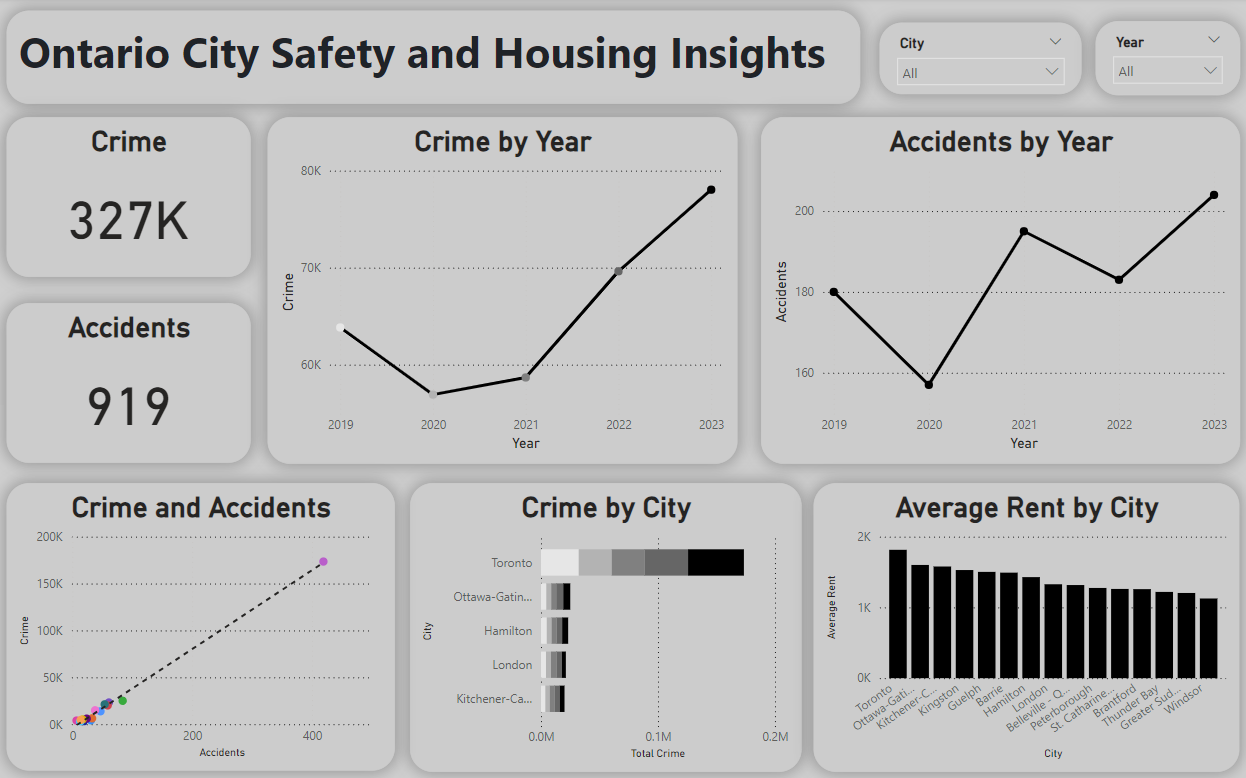

Layout of this report page (visuals, bound fields, positions):
{"tool":"powerbi","page":{"name":"Page 1","canvas":[1280,800],"ordinal":0},"visuals":[{"type":"textbox","box":[11,14.2,864.7,94.5],"z":0},{"type":"slicer","fields":{"Values":["crime_ontario.City"]},"box":[894.6,25.2,204.8,72.5],"z":1000},{"type":"slicer","fields":{"Values":["Year.Year"]},"box":[1113.6,23.6,146.5,75.6],"z":2000},{"type":"card","title":"Crime","fields":{"Values":["Sum(crime_ontario.Total)"]},"box":[11,121.3,247.3,162.2],"z":3000},{"type":"card","title":"Accidents","fields":{"Values":["Sum(accident_ontario.Total)"]},"box":[11,310.3,247.3,162.2],"z":4000},{"type":"lineChart","title":"Crime by Year","fields":{"Category":["crime_ontario.Year"],"Y":["Sum(crime_ontario.Total)"]},"box":[275.6,121.3,475.7,351.2],"z":5000},{"type":"lineChart","title":"Accidents by Year","fields":{"Category":["accident_ontario.Year"],"Y":["Sum(accident_ontario.Total)"]},"box":[774.9,121.3,485.1,351.2],"z":6000},{"type":"barChart","title":"Crime by City","fields":{"Category":["crime_ontario.City"],"Y":["Sum(crime_ontario.Total)"],"Series":["crime_ontario.Year"]},"box":[419,491.4,396.9,293],"z":7000},{"type":"scatterChart","title":"Crime and Accidents","fields":{"X":["Sum(accident_ontario.Total)"],"Y":["Sum(crime_ontario.Total)"],"Series":["accident_ontario.City"]},"box":[10.6,492.2,393.4,291.7],"z":8000},{"type":"lineClusteredColumnComboChart","title":"Average Rent by City","fields":{"Category":["rent_ontario.City"],"Y":["Sum(rent_ontario.avg_rent)"]},"box":[828.5,491.4,431.6,293],"z":9000}]}

Visuals, with their boxes in screenshot pixels (x1, y1, x2, y2), scaled from the page's 1280x800 canvas onto the 1246x778 screenshot:
textbox: x1=11 y1=14 x2=852 y2=106
slicer - crime_ontario.City: x1=871 y1=25 x2=1070 y2=95
slicer - Year.Year: x1=1084 y1=23 x2=1227 y2=96
"Crime" card: x1=11 y1=118 x2=251 y2=276
"Accidents" card: x1=11 y1=302 x2=251 y2=460
"Crime by Year" lineChart: x1=268 y1=118 x2=731 y2=460
"Accidents by Year" lineChart: x1=754 y1=118 x2=1227 y2=460
"Crime by City" barChart: x1=408 y1=478 x2=794 y2=763
"Crime and Accidents" scatterChart: x1=10 y1=479 x2=393 y2=762
"Average Rent by City" lineClusteredColumnComboChart: x1=806 y1=478 x2=1227 y2=763
